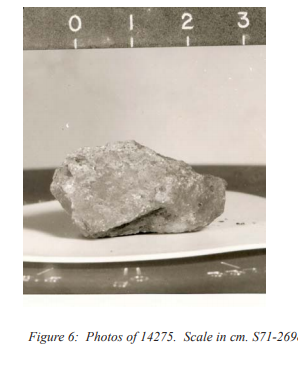Breccia: (47, 134, 247, 243), (114, 164, 231, 241)
